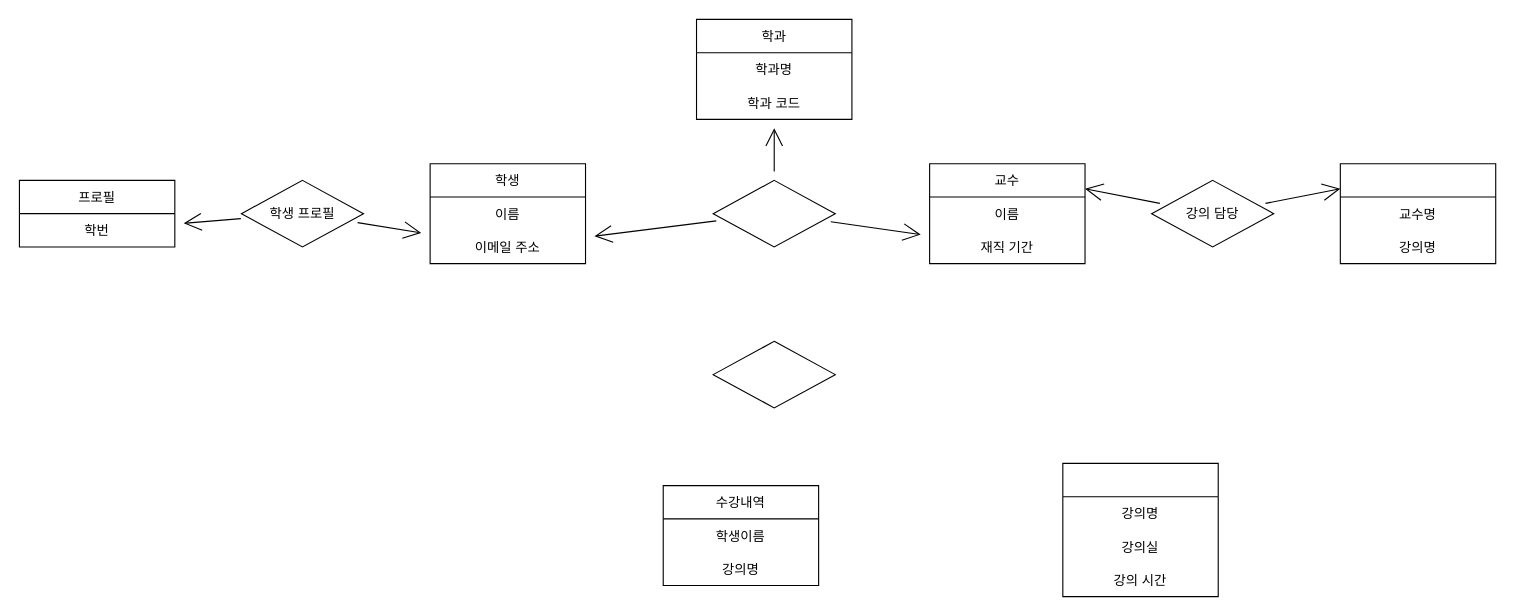
This 1515x616 diagram has some shape labels left out. The box of each missing label's shape, as (x1, y1, x2, y2) in pixels:
강의: (1062, 462, 1218, 597)
담당 교수: (1339, 163, 1496, 264)
수강 내역: (712, 340, 835, 408)
학과 소속: (712, 179, 835, 247)
